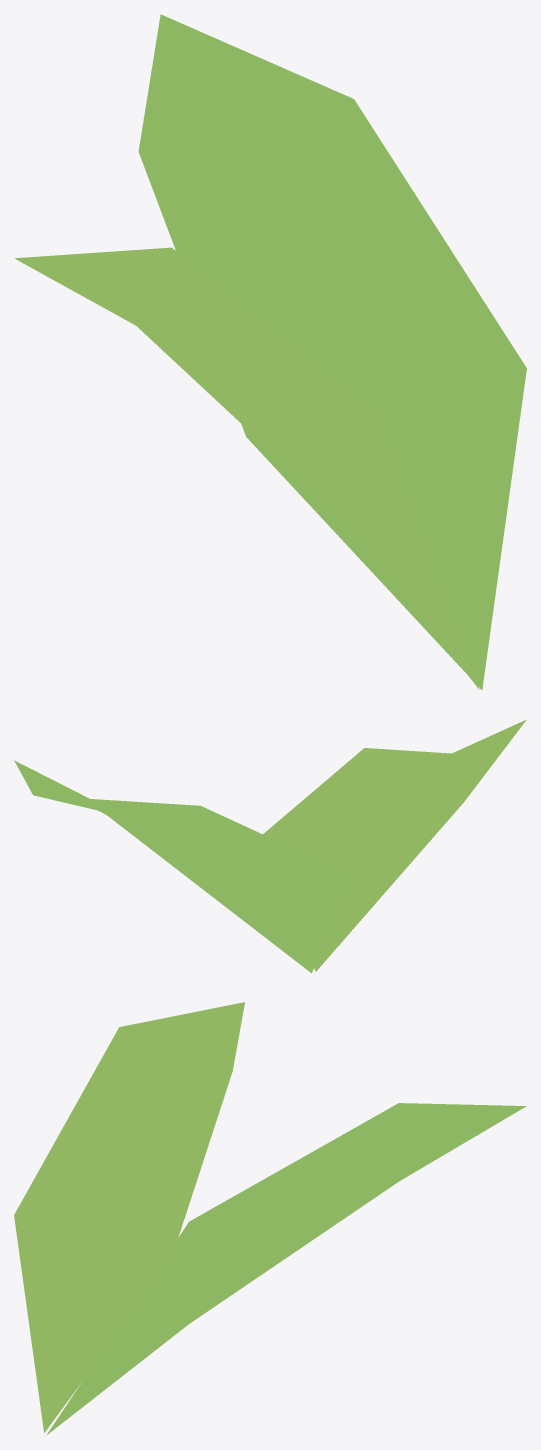
File: Plant_k_OneS_01.fbx
3 renders of one model, top to bottom at view 1: azimuth 30°, elevation 25°; view 2: azimuth 150°, elevation 25°; view 3: azimuth 270°, elevation 25°, orthographic. The views are drawn at different scales.
Parts seen in each view (by area): view 1: Plant_k_OneS_01; view 2: Plant_k_OneS_01; view 3: Plant_k_OneS_01.
Part boxes in pixels (x1,y1,x2,y2): Plant_k_OneS_01: (14, 14, 526, 690); Plant_k_OneS_01: (14, 719, 526, 973); Plant_k_OneS_01: (14, 1002, 526, 1435).
Size of the model in its own units: 0.1711 by 0.1517 by 0.2138.
